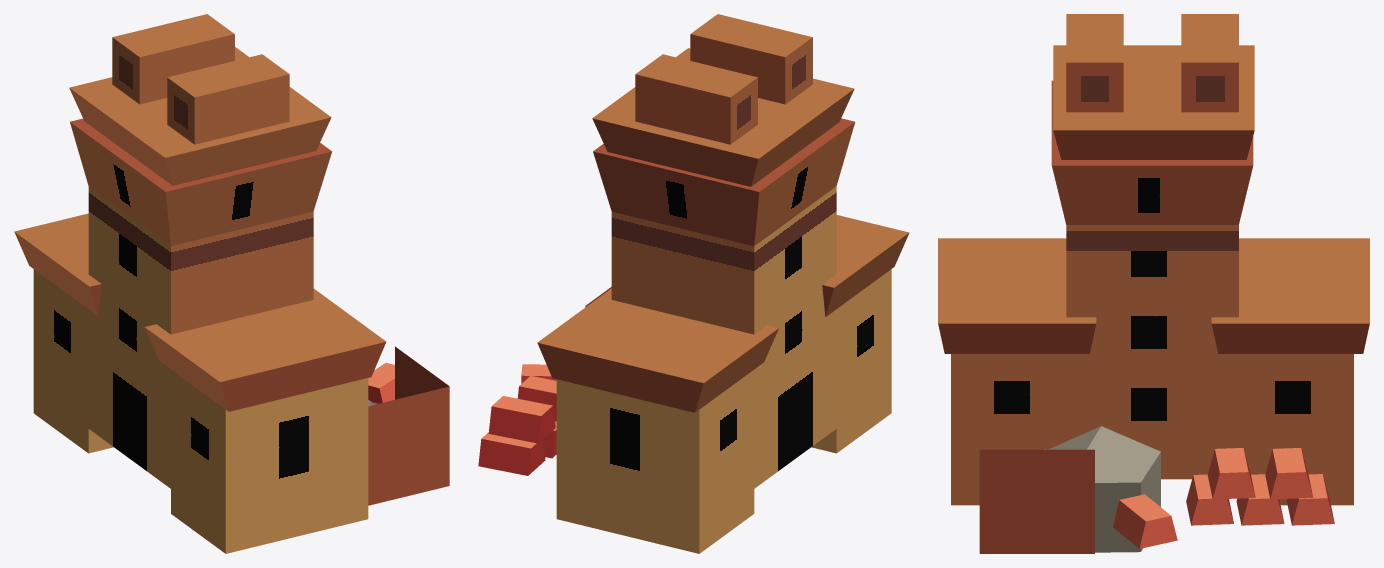
The model's file is desert_house_2.gltf.
The picture shows the model from 3 angles, left to right: view 1: azimuth 30°, elevation 25°; view 2: azimuth 150°, elevation 25°; view 3: azimuth 270°, elevation 25°; orthographic projection. The views are drawn at different scales.
Parts seen in each view (by area): view 1: Deser_house_2, plane (×2); view 2: Deser_house_2; view 3: Deser_house_2, plane, sphere.
Boxes of the visible parts, <box> form: Deser_house_2: <box>14,14,394,553</box>; plane (×2): <box>368,346,449,505</box>; Deser_house_2: <box>478,14,909,553</box>; Deser_house_2: <box>938,14,1369,548</box>; plane: <box>979,449,1094,553</box>; sphere: <box>1048,426,1160,552</box>.
Size of the model in its own units: 0.7646 by 1.06 by 0.9375.
1 material, 1 textured.
